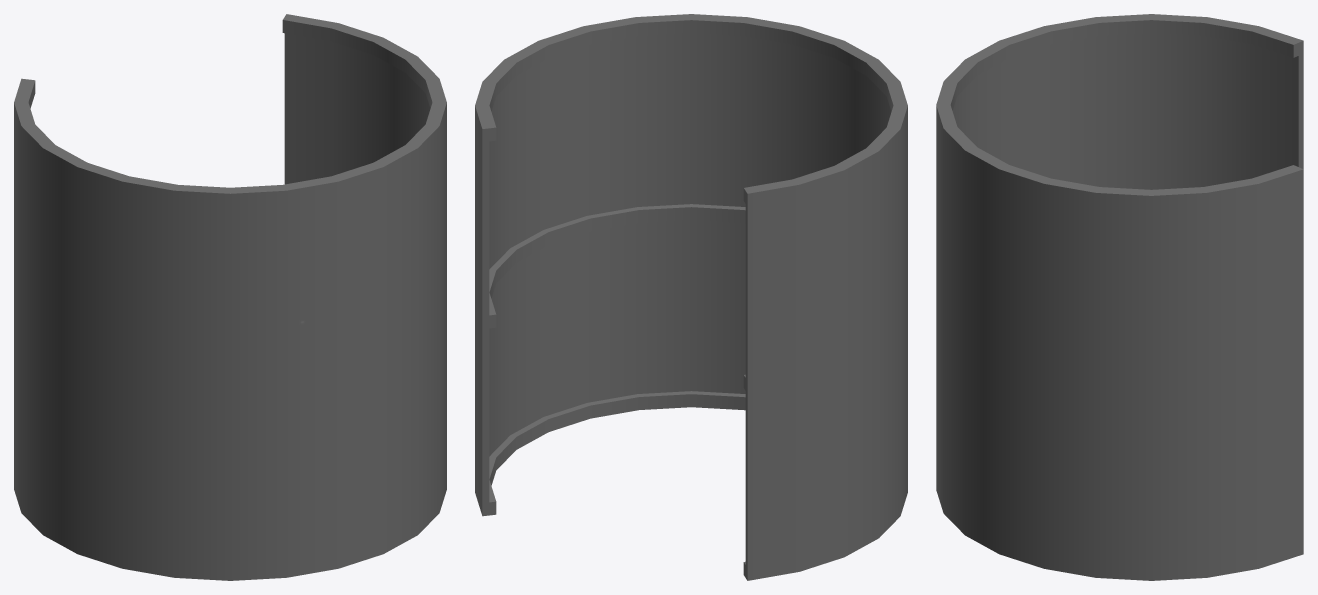
File: Alniyat_CargoBay_2.obj
3 views of the same model, side by side, from view 1: azimuth 30°, elevation 25°; view 2: azimuth 150°, elevation 25°; view 3: azimuth 270°, elevation 25° (orthographic).
Visible parts, largest first — view 1: Alniyat_CargoBay_2; view 2: Alniyat_CargoBay_2; view 3: Alniyat_CargoBay_2.
Part boxes in pixels (x1,y1,x2,y2): Alniyat_CargoBay_2: [14, 14, 446, 580]; Alniyat_CargoBay_2: [475, 14, 907, 580]; Alniyat_CargoBay_2: [936, 14, 1303, 580].
Size of the model in its own units: 1.88 by 1.85 by 1.6.
